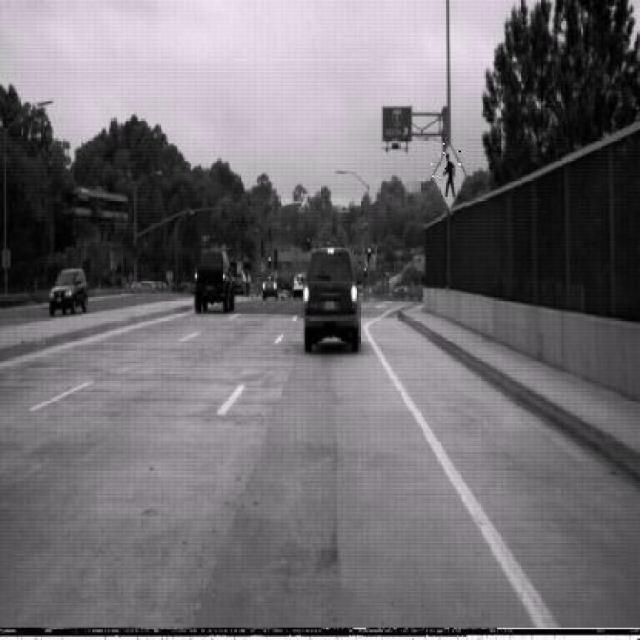pedestrianCrossing: (431, 144, 467, 216)
